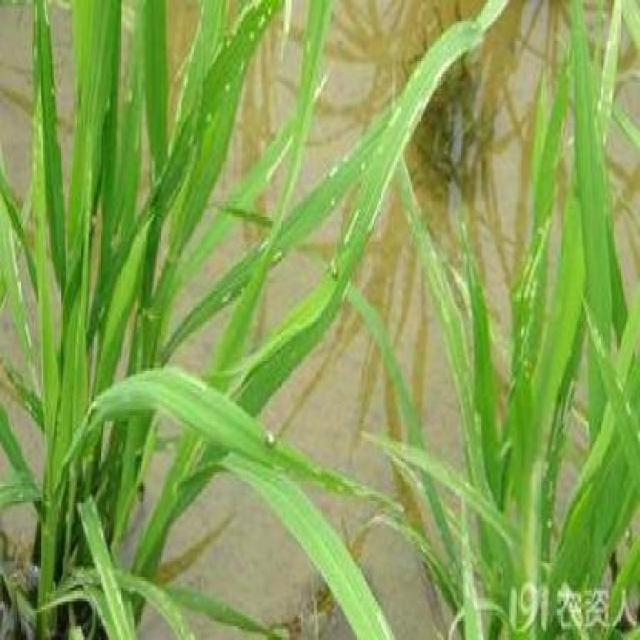rice-bug: (329, 250, 342, 282), (264, 430, 278, 452)
